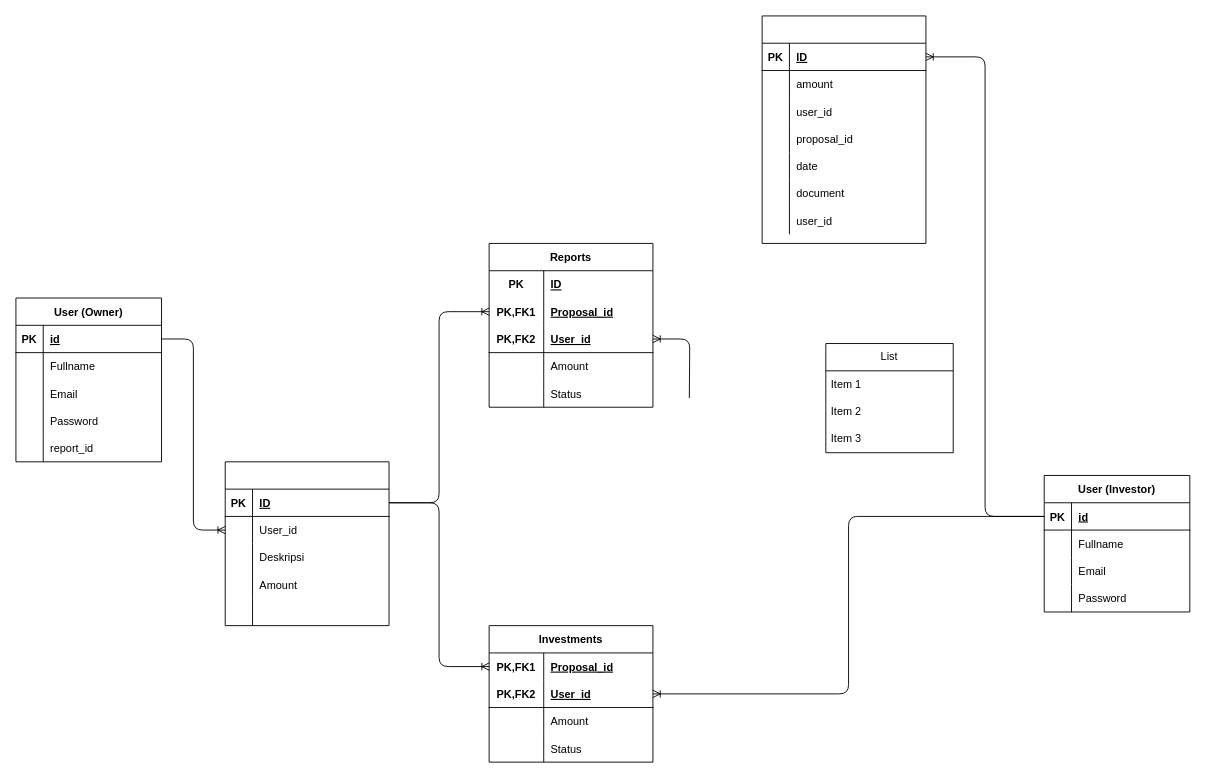
The diagram is 1206 pixels wide and 778 high, and some of its shapes have lost their labels. Each missing label, with the box of its shape:
Proposal: (224, 461, 389, 626)
Report: (761, 15, 926, 243)
